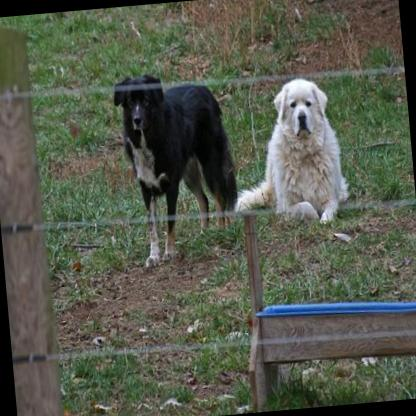Tibetan_mastiff: (109, 63, 243, 268), (224, 72, 353, 236)
